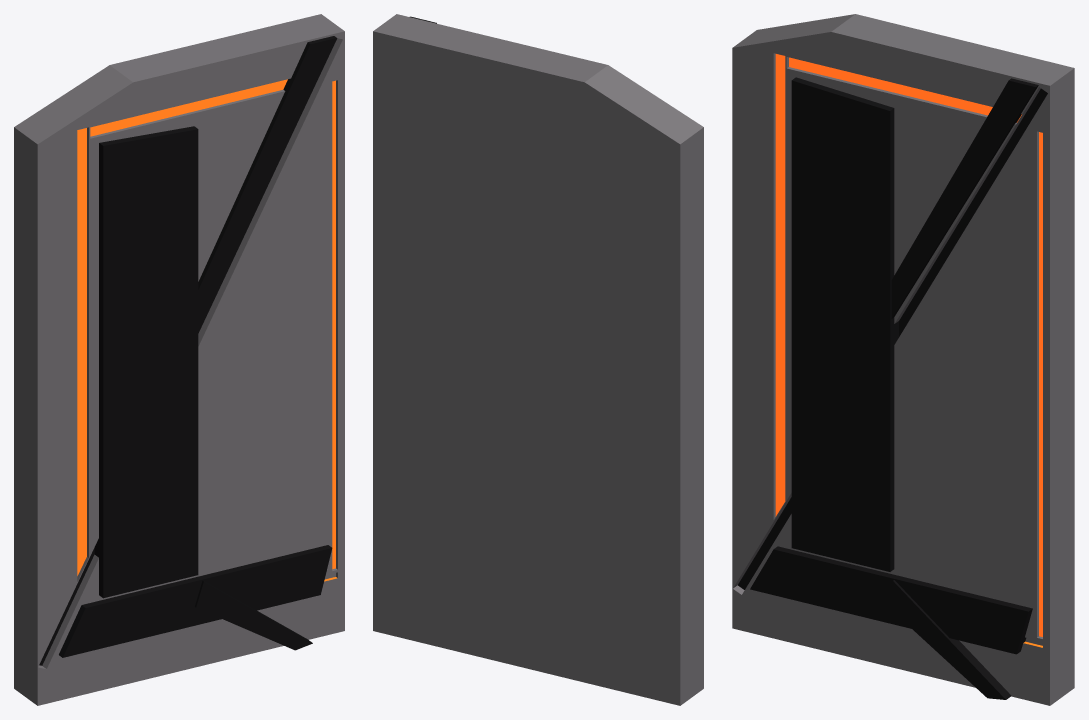
The model's file is Door_L.fbx.
The picture shows the model from 3 angles, left to right: view 1: azimuth 30°, elevation 25°; view 2: azimuth 150°, elevation 25°; view 3: azimuth 330°, elevation 25°; orthographic projection. The views are drawn at different scales.
Visible parts, largest first — view 1: Door_L; view 2: Door_L; view 3: Door_L.
Part boxes in pixels (<box>): Door_L: <box>14,14,344,705</box>; Door_L: <box>373,14,703,705</box>; Door_L: <box>732,14,1074,705</box>.
Size of the model in its own units: 120 by 225 by 19.7.
